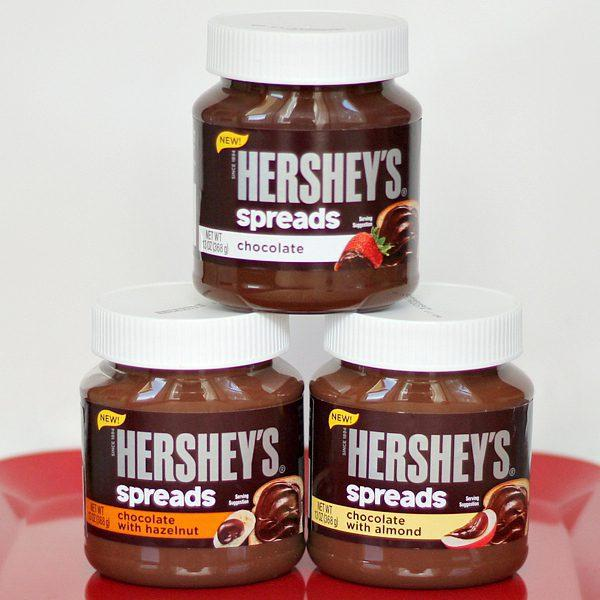Hershey-s: (307, 284, 536, 591), (188, 19, 425, 314), (75, 300, 305, 589)
